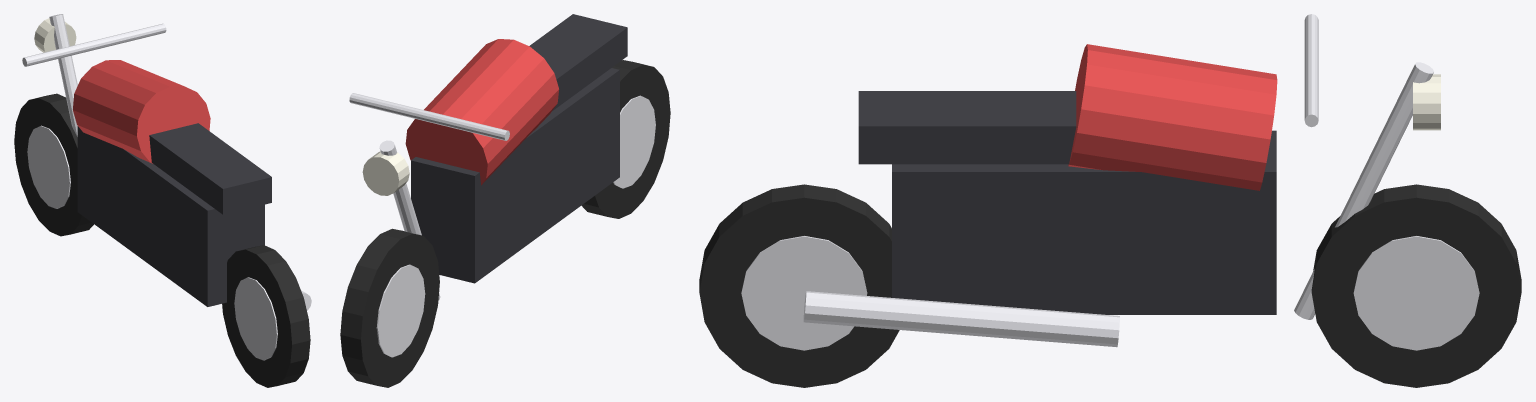
Rendered from Motorcycle.fbx.
The picture shows the model from 3 angles, left to right: view 1: azimuth 30°, elevation 25°; view 2: azimuth 150°, elevation 25°; view 3: azimuth 270°, elevation 25°; orthographic projection. The views are drawn at different scales.
Parts seen in each view (by area): view 1: CSVS_Motorcycle_Commuter; view 2: CSVS_Motorcycle_Commuter; view 3: CSVS_Motorcycle_Commuter.
Boxes of the visible parts, box(x1,y1,x2,y2) form: CSVS_Motorcycle_Commuter: box(14, 14, 311, 387); CSVS_Motorcycle_Commuter: box(340, 14, 670, 387); CSVS_Motorcycle_Commuter: box(699, 14, 1521, 387).
Bounding box in the file's own units: 0.68 × 1.05 × 2.35.
